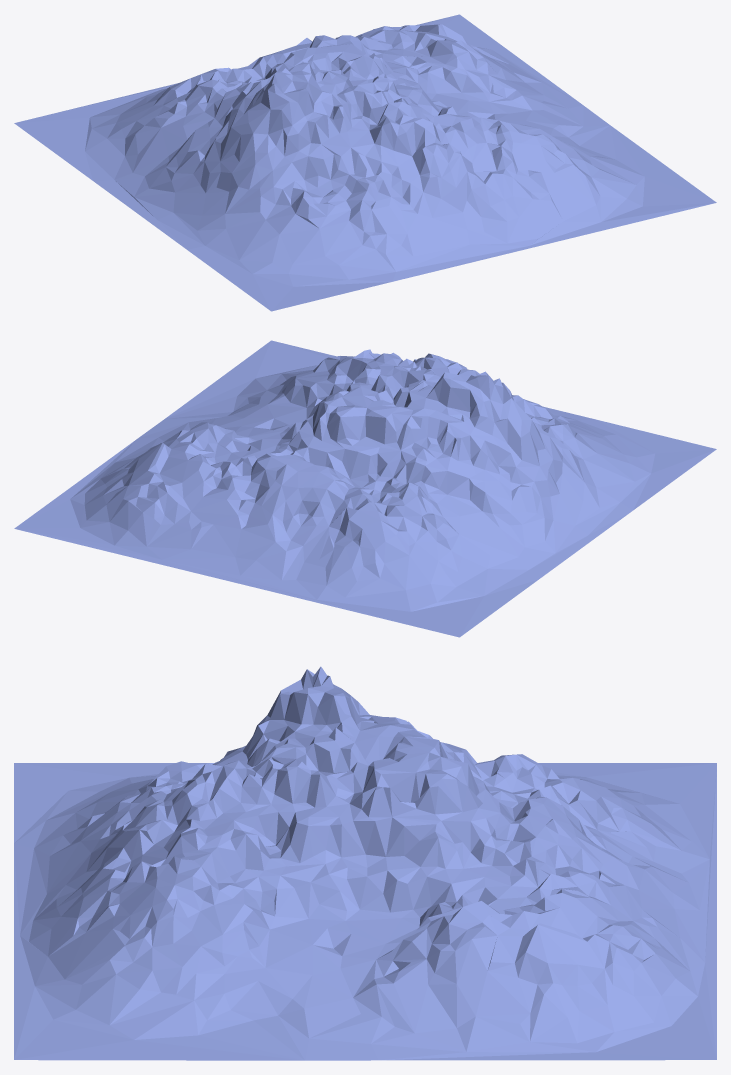
The model's file is Ice Mountain.fbx.
3 renders of one model, top to bottom at view 1: azimuth 30°, elevation 25°; view 2: azimuth 150°, elevation 25°; view 3: azimuth 270°, elevation 25°, orthographic. The views are drawn at different scales.
Visible parts, largest first — view 1: Landscape; view 2: Landscape; view 3: Landscape.
Part boxes in pixels (bbox=[...]): Landscape: bbox=[14, 14, 716, 311]; Landscape: bbox=[14, 340, 716, 637]; Landscape: bbox=[14, 666, 716, 1060].
Bounding box in the file's own units: 2 × 0.5486 × 2.
